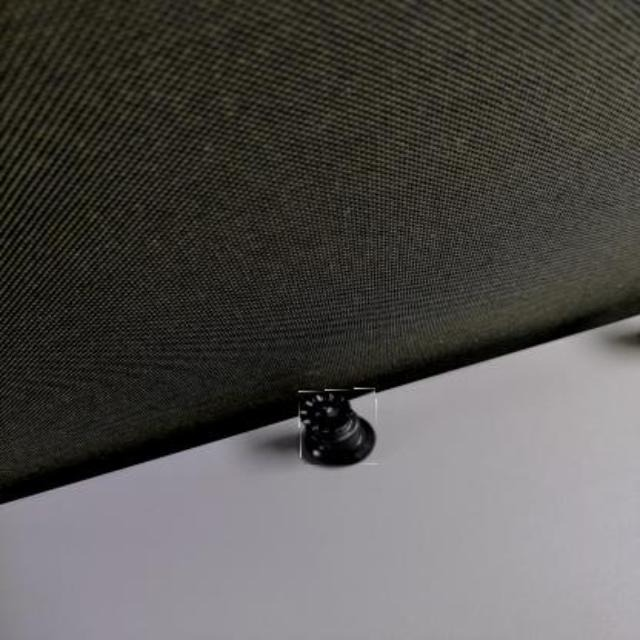black-queen: (300, 389, 378, 465)
